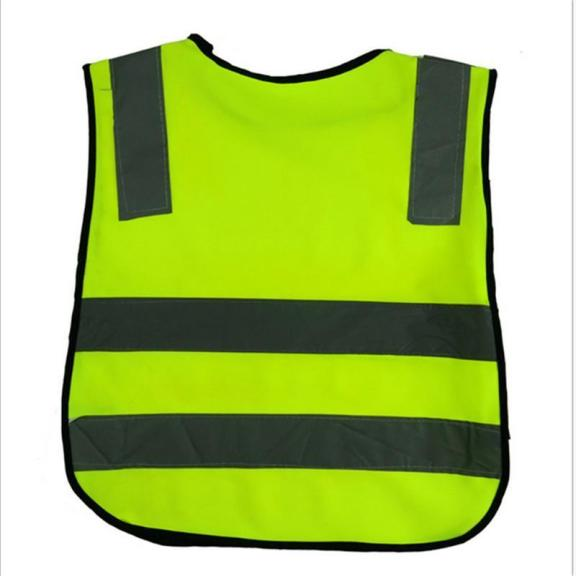safety_vest: (62, 19, 510, 553)
